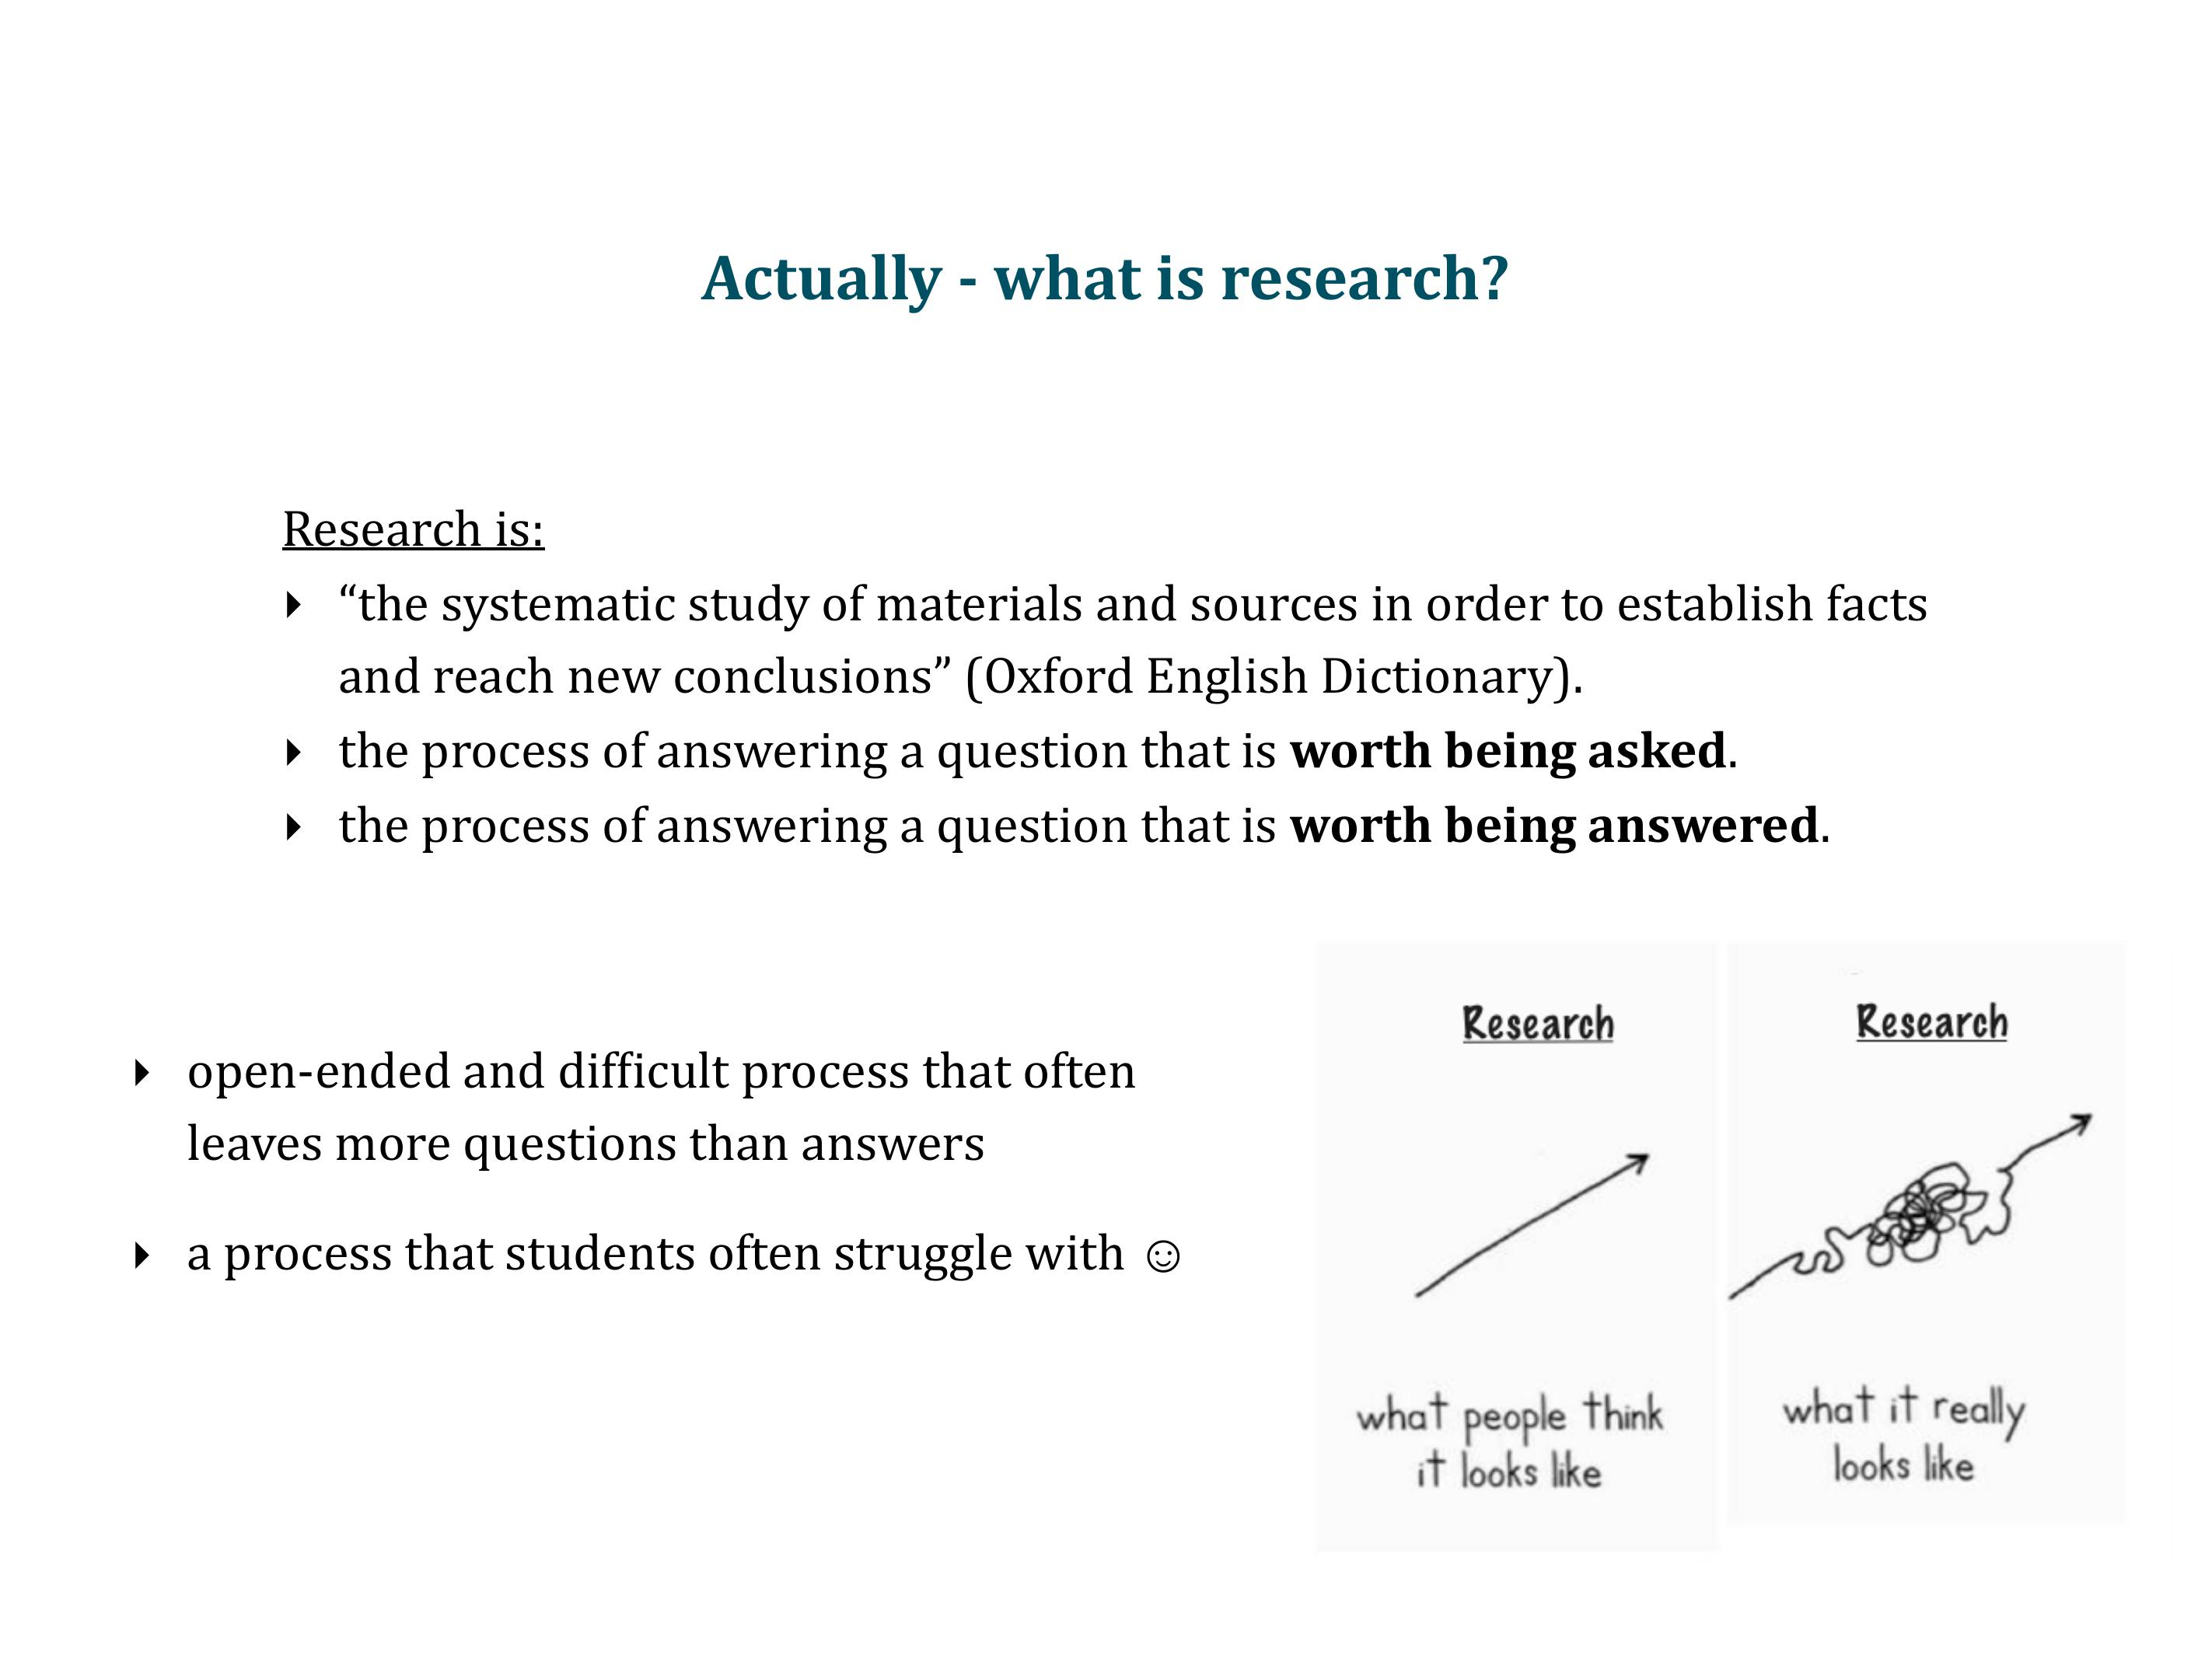Title: (689, 230, 1520, 328)
